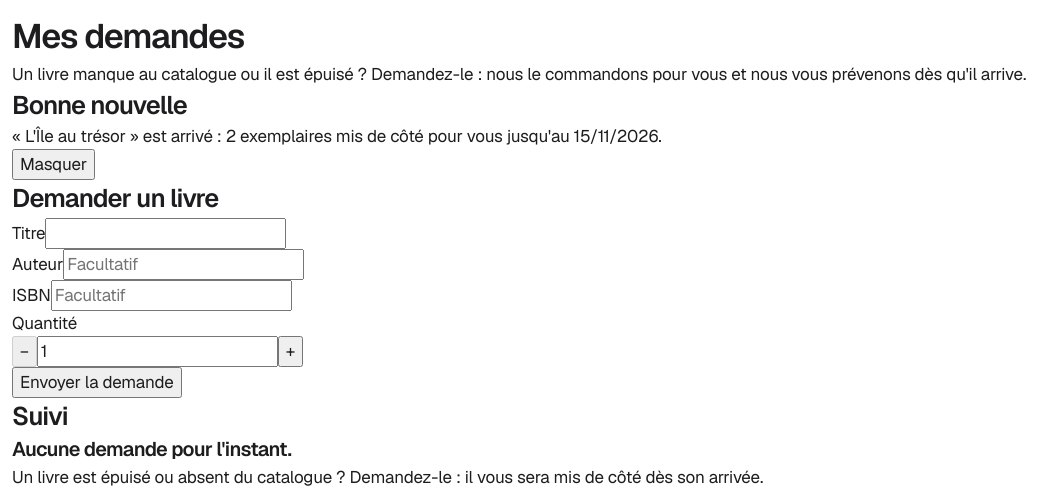
Test: page Mes demandes › montre les notifications de réapprovisionnement et les masque une fois lues
expect the number of list items is 1: met, box x1=12 y1=125 x2=662 y2=180
expect the text "« L'Île au trésor » est arrivé : 2 exemplaires mis de côté pour vous jusqu'au 15/11/2026." is shown: met, box x1=12 y1=125 x2=662 y2=147
Click the button "Masquer": (53, 165) x1=12 y1=149 x2=95 y2=180
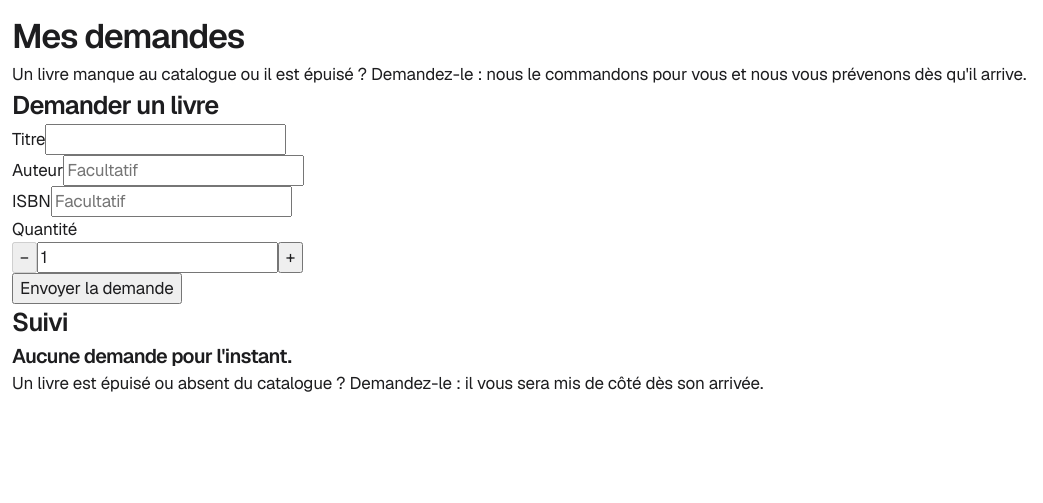
expect the heading "Bonne nouvelle" is gone: met
